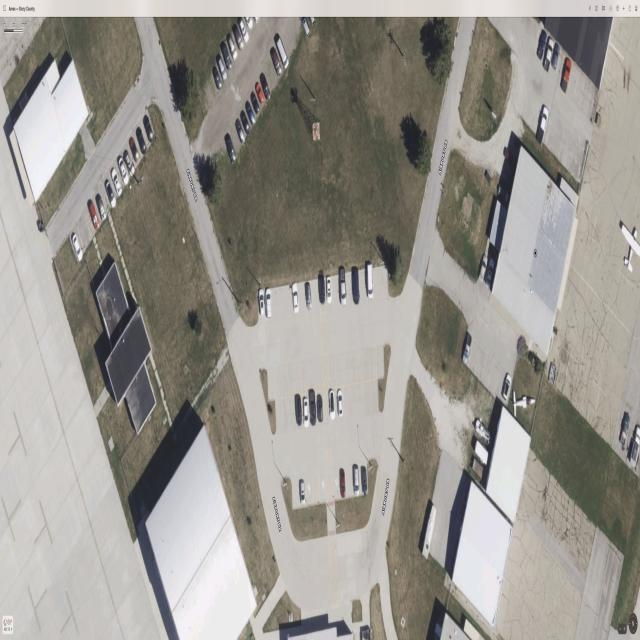Empty: (363, 380, 372, 417), (355, 348, 364, 383), (370, 379, 379, 414), (348, 351, 357, 385), (376, 345, 385, 379), (328, 354, 336, 390), (357, 381, 365, 417), (342, 352, 350, 387), (335, 353, 343, 388), (362, 347, 370, 382), (369, 346, 377, 381), (350, 383, 358, 418), (294, 361, 302, 396), (315, 357, 323, 392), (282, 398, 290, 433), (308, 359, 316, 394), (343, 385, 351, 419), (281, 365, 289, 399), (274, 366, 282, 399), (301, 361, 309, 394), (333, 470, 341, 500), (305, 476, 313, 505)
Parked: (351, 267, 361, 309), (338, 268, 348, 309), (365, 264, 374, 304), (318, 277, 327, 313), (302, 393, 311, 429), (308, 392, 317, 428), (315, 391, 324, 426), (291, 284, 300, 318), (295, 395, 304, 429), (304, 281, 313, 314), (359, 464, 368, 496), (325, 276, 334, 308), (258, 288, 266, 324), (336, 386, 344, 421), (265, 288, 273, 322), (352, 466, 361, 496), (339, 468, 347, 500), (298, 478, 306, 508), (330, 389, 337, 423), (319, 474, 327, 503)
